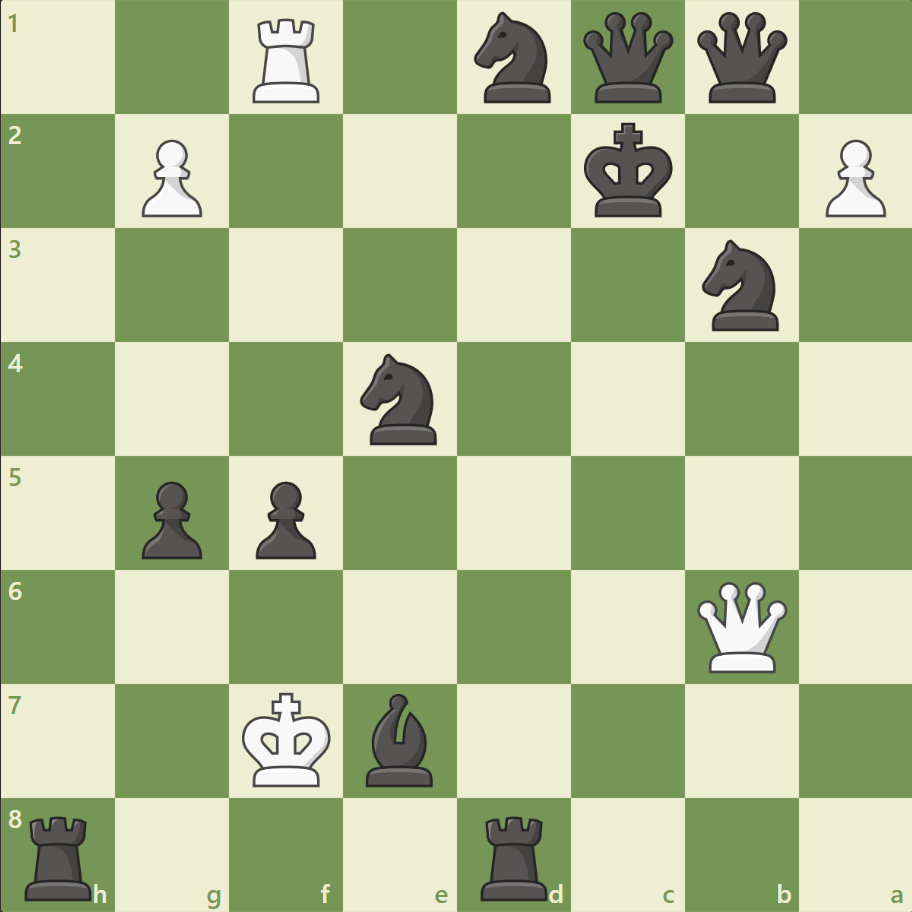K: (238, 685, 338, 793)
P: (133, 132, 208, 223), (815, 132, 889, 223)
Q: (691, 576, 790, 676)
R: (246, 12, 329, 109)
b: (358, 687, 442, 790)
k: (579, 117, 679, 225)
n: (351, 348, 449, 450), (692, 234, 789, 337), (465, 7, 562, 110)
p: (247, 473, 322, 564), (133, 473, 208, 564)
q: (691, 9, 790, 108), (578, 9, 677, 108)
r: (473, 806, 556, 904), (19, 806, 102, 904)
